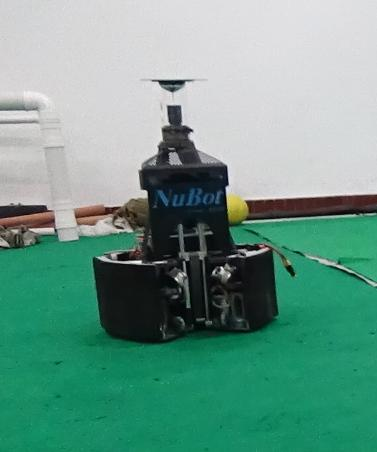robot: (83, 74, 281, 344)
